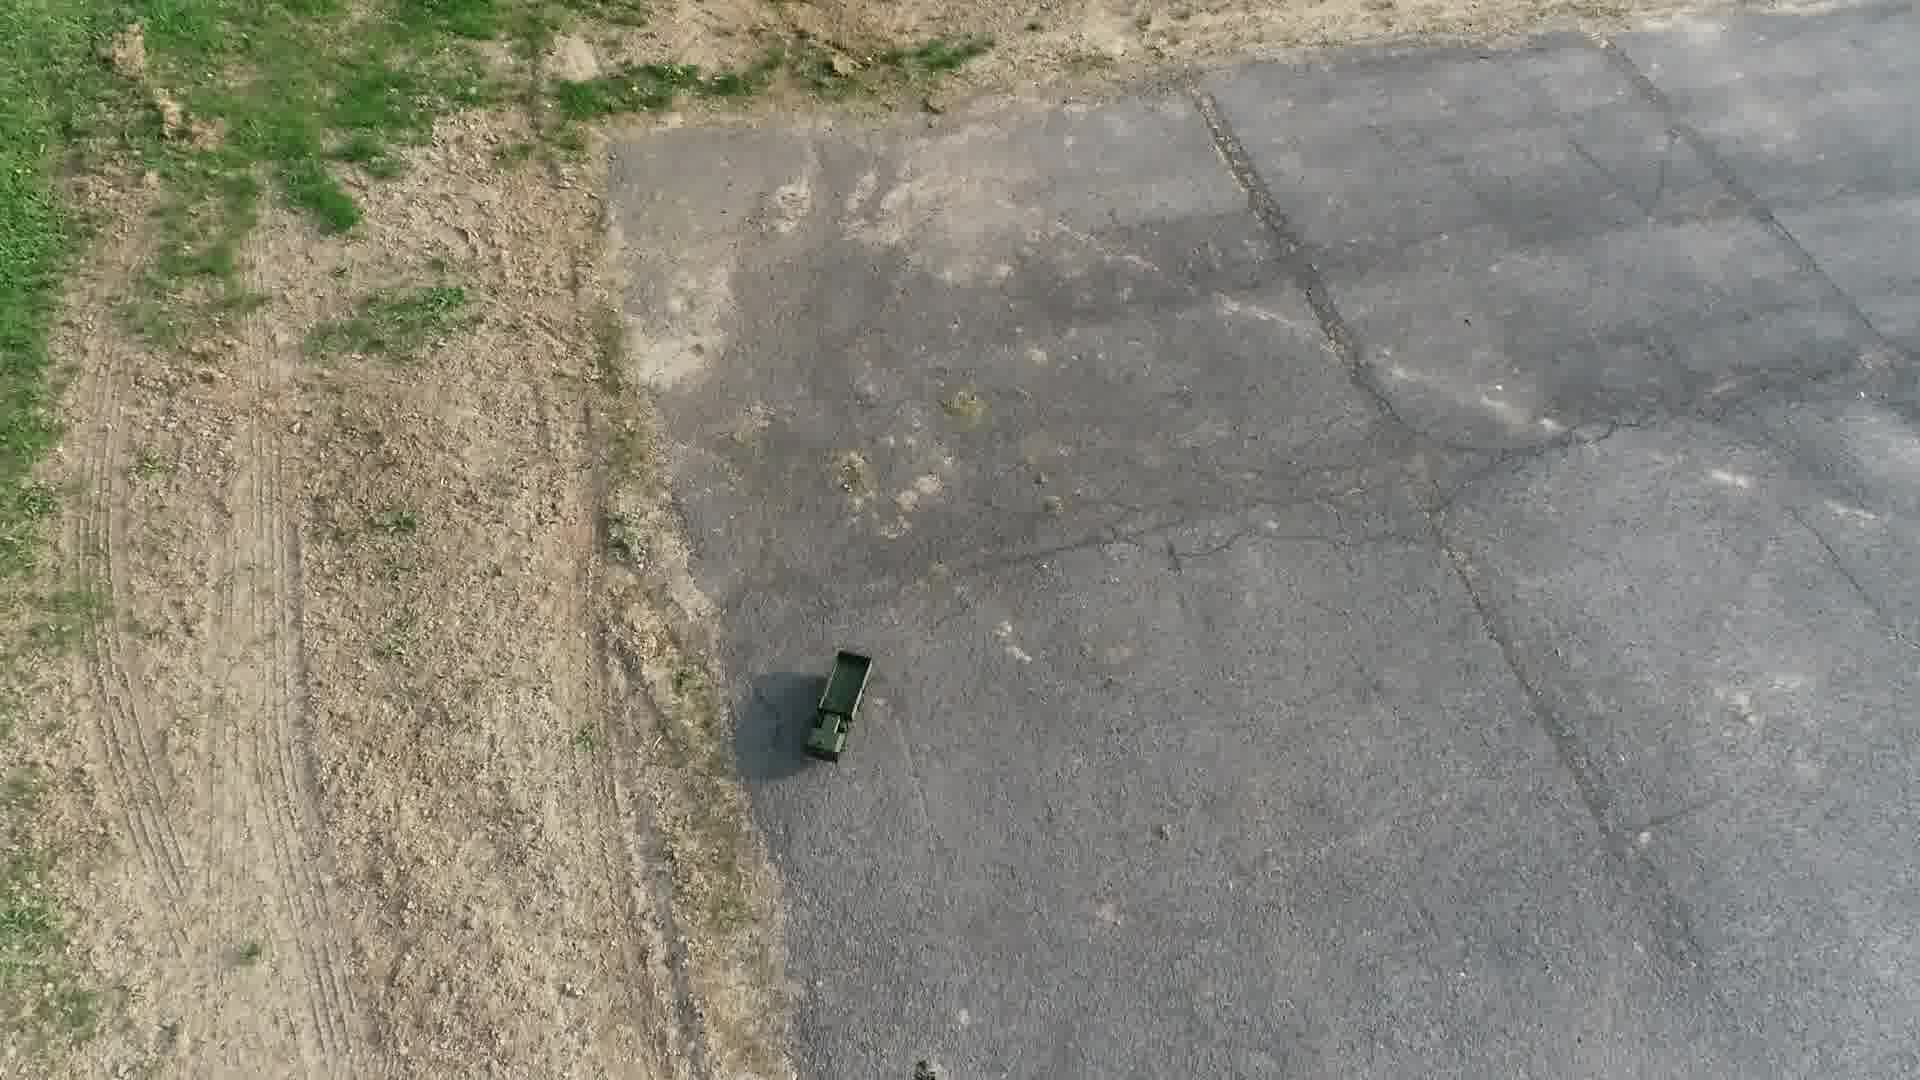transporter9: (798, 641, 878, 765)
